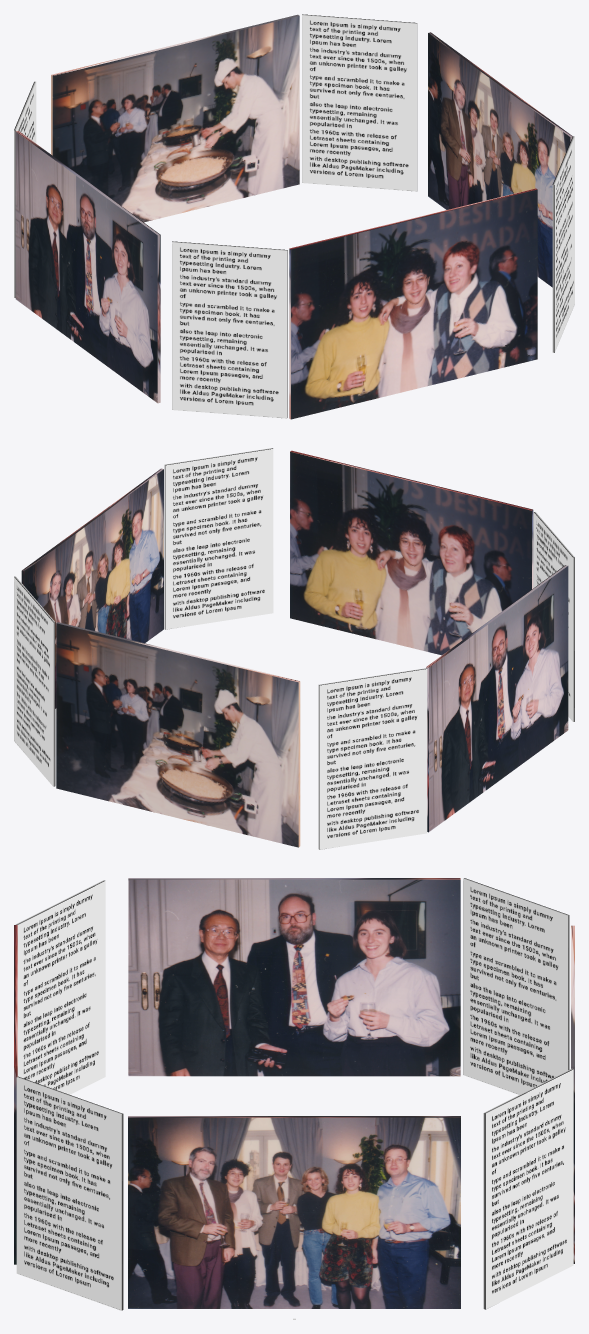
File: bundle002.glb
3 views of the same model, one above another, from view 1: azimuth 30°, elevation 25°; view 2: azimuth 150°, elevation 25°; view 3: azimuth 270°, elevation 25° (orthographic). The views are drawn at different scales.
Parts seen in each view (by area): view 1: Board 004, Board 002, Board 003, Board 001.003, Board 001.004, Board 001, Board 001.001, Board 001.002; view 2: Board 002, Board 004, Board 003, Board 001.002, Board 001.001, Board 001, Board 001.003, Board 001.004; view 3: Board 003, Board 001, Board 001.001, Board 001.002, Board 001.003, Board 001.004, Board 004, Board 002.
Boxes of the visible parts, box(x1,y1,x2,y2) form: Board 004: box(289, 188, 537, 419); Board 002: box(51, 14, 299, 222); Board 003: box(15, 131, 160, 403); Board 001.003: box(302, 14, 417, 191); Board 001.004: box(172, 241, 287, 418); Board 001: box(428, 32, 572, 287); Board 001.001: box(552, 136, 574, 352); Board 001.002: box(14, 81, 36, 297); Board 002: box(56, 622, 300, 847); Board 004: box(290, 450, 533, 655); Board 003: box(426, 565, 568, 832); Board 001.002: box(318, 668, 427, 849); Board 001.001: box(164, 448, 273, 629); Board 001: box(21, 468, 163, 708); Board 001.003: box(14, 576, 55, 786); Board 001.004: box(533, 512, 574, 721); Board 003: box(128, 878, 460, 1076); Board 001: box(128, 1116, 460, 1308); Board 001.001: box(16, 1076, 123, 1310); Board 001.002: box(463, 878, 569, 1094); Board 001.003: box(483, 1068, 573, 1309); Board 001.004: box(15, 880, 105, 1094); Board 004: box(14, 925, 17, 1264); Board 002: box(571, 925, 574, 1263).
Bounding box in the file's own units: 4.74 × 3.02 × 4.74.
Materials: 8 (8 with a texture image).
